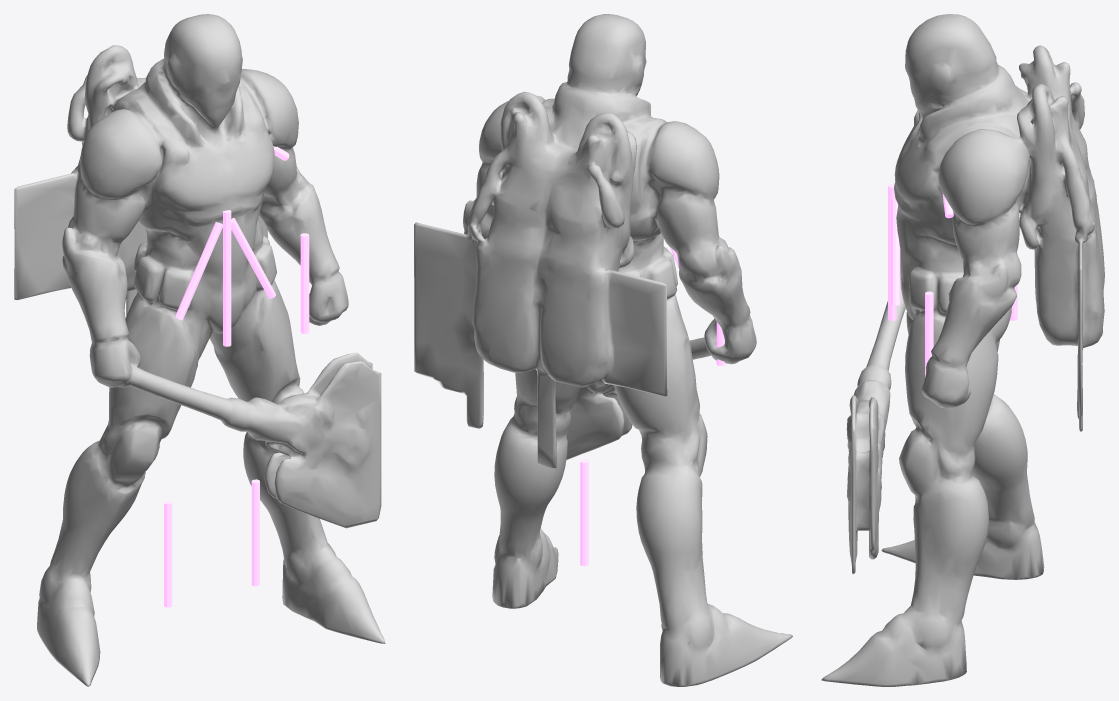
File: Enforcer_Hammer.fbx
3 views of the same model, side by side, from view 1: azimuth 30°, elevation 25°; view 2: azimuth 150°, elevation 25°; view 3: azimuth 270°, elevation 25° (orthographic).
Parts seen in each view (by area): view 1: Enforcer_Hammer; view 2: Enforcer_Hammer; view 3: Enforcer_Hammer.
Boxes of the visible parts, left/top/right/bottom form: Enforcer_Hammer: left=14, top=14, right=385, bottom=686; Enforcer_Hammer: left=414, top=14, right=792, bottom=686; Enforcer_Hammer: left=821, top=14, right=1104, bottom=686.
Bounding box in the file's own units: 99.44 × 199 × 84.52.
